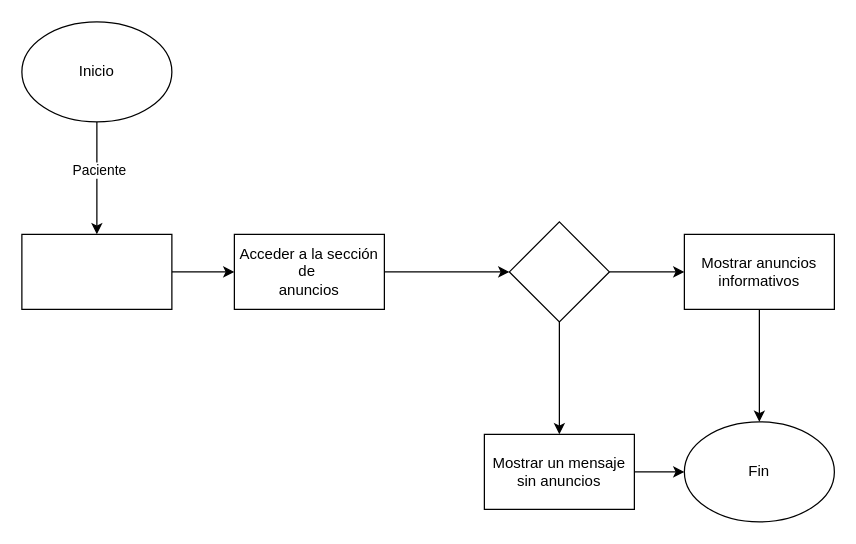
Some shapes in this 856 by 544 pixel diagram are drawn without their labels. Each missing label, with the centre of its shape:
Inicia Sesión: the point at 96,271
¿Anuncios Disponibles?: the point at 558,271
